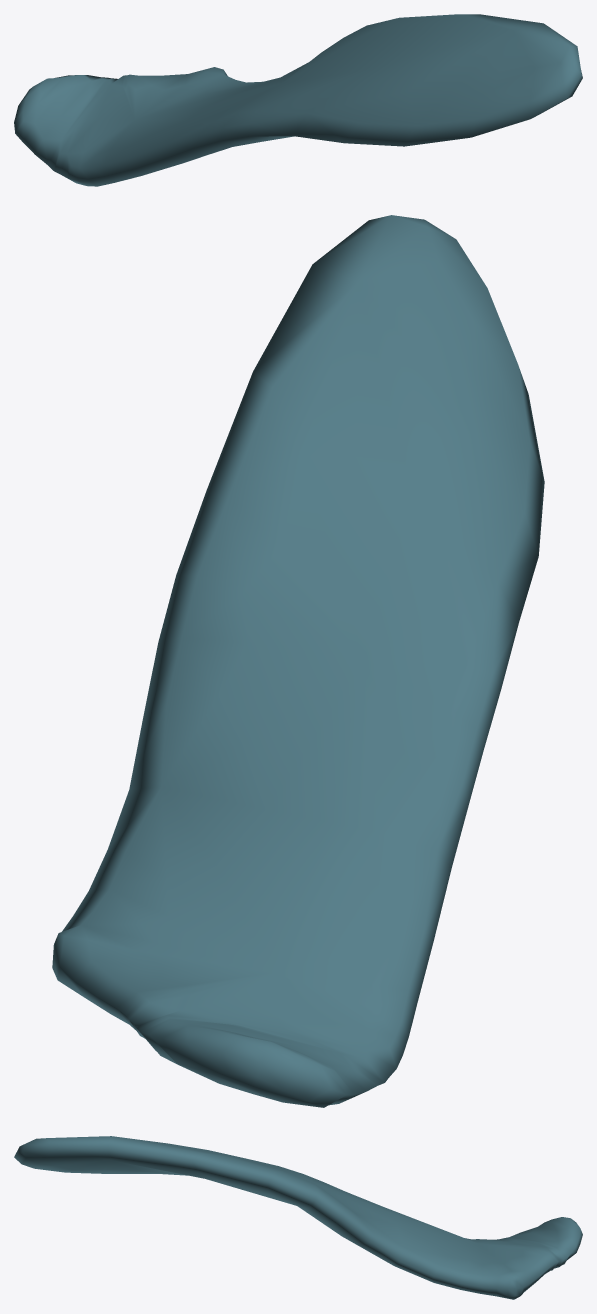
The model's file is Flexor_digiti_minimi_foot_5th_proximal_phalanx_left.glb.
The picture shows the model from 3 angles, top to bottom: view 1: azimuth 30°, elevation 25°; view 2: azimuth 150°, elevation 25°; view 3: azimuth 270°, elevation 25°; orthographic projection. The views are drawn at different scales.
Visible parts, largest first — view 1: Flexor_digiti_minimi_of_foot_on_5th_proximal_phalanx.l_Gener; view 2: Flexor_digiti_minimi_of_foot_on_5th_proximal_phalanx.l_Gener; view 3: Flexor_digiti_minimi_of_foot_on_5th_proximal_phalanx.l_Gener.
Boxes of the visible parts, <box> form: Flexor_digiti_minimi_of_foot_on_5th_proximal_phalanx.l_Gener: <box>14,14,582,186</box>; Flexor_digiti_minimi_of_foot_on_5th_proximal_phalanx.l_Gener: <box>52,215,544,1107</box>; Flexor_digiti_minimi_of_foot_on_5th_proximal_phalanx.l_Gener: <box>14,1136,582,1299</box>.
Size of the model in its own units: 0.00476 by 0.0043 by 0.00991.
